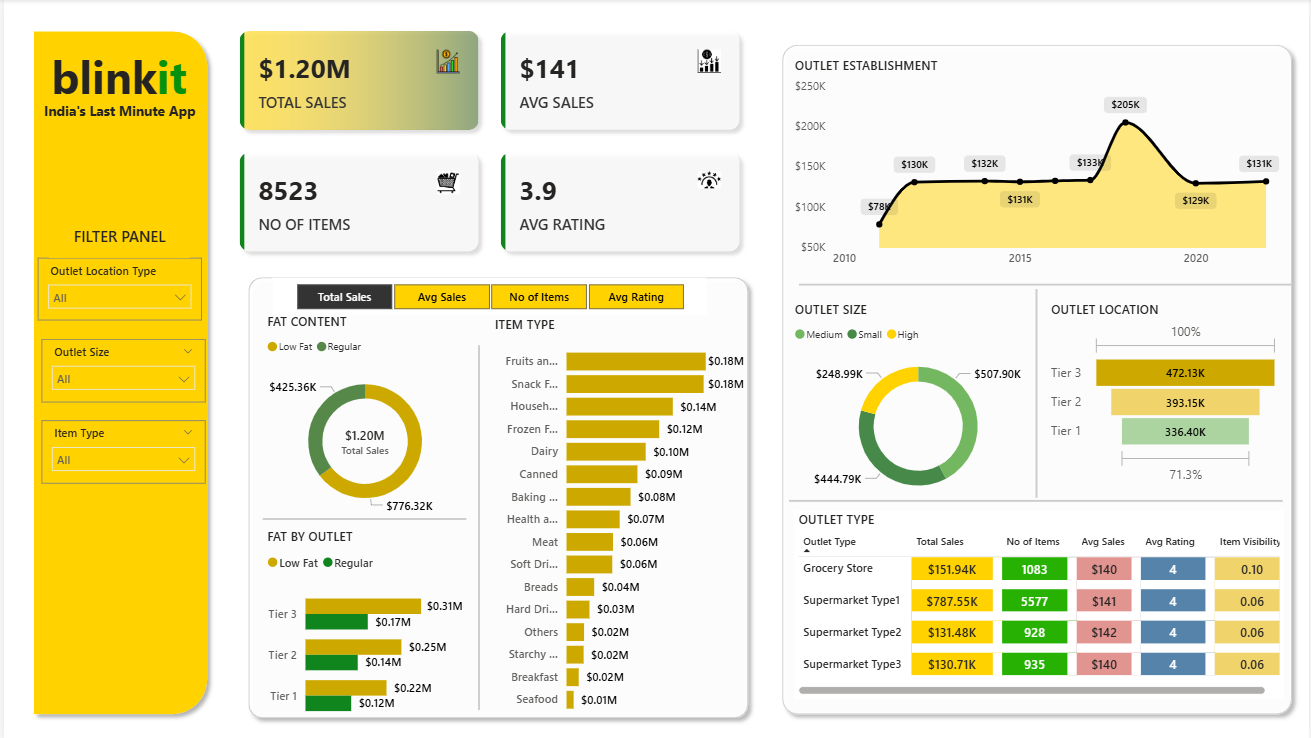

The page's visual inventory and layout, read from the dashboard file:
{"tool":"powerbi","page":{"name":"Page 1","canvas":[1400,800],"ordinal":0},"visuals":[{"type":"shape","box":[22.5,25.5,204.1,750.4],"z":0},{"type":"textbox","box":[40.5,45,166.6,84],"z":1000},{"type":"textbox","box":[30,105.1,189.1,48],"z":2000},{"type":"cardVisual","fields":{"Data":["BlinkIT Grocery Data.Total Sales","BlinkIT Grocery Data.Avg Sales","BlinkIT Grocery Data.No of Items","BlinkIT Grocery Data.Avg Rating"]},"box":[235.9,17.4,571,270.8],"z":3000},{"type":"shape","box":[253.4,289.5,553.6,490.6],"z":4000},{"type":"donutChart","title":"FAT CONTENT","fields":{"Y":["BlinkIT Grocery Data.Total Sales"],"Category":["BlinkIT Grocery Data.Item Fat Content"]},"box":[277.5,336.5,219.8,230.6],"z":5000},{"type":"slicer","fields":{"Values":["Metrics.Metrics"]},"box":[288.2,298.9,465.1,40.2],"z":6000},{"type":"cardVisual","fields":{"Data":["BlinkIT Grocery Data.Total Sales"]},"box":[339.1,439.7,96.5,69.7],"z":6001},{"type":"clusteredBarChart","title":"FAT BY OUTLET","fields":{"Y":["BlinkIT Grocery Data.Total Sales"],"Category":["BlinkIT Grocery Data.Outlet Location Type"],"Series":["BlinkIT Grocery Data.Item Fat Content"]},"box":[277.5,567,219.8,221.2],"z":6002},{"type":"shape","box":[277.5,548.3,218.5,18.8],"z":6003},{"type":"shape","box":[497.3,371.3,24.1,391.4],"z":6004},{"type":"barChart","title":"ITEM TYPE","fields":{"Category":["BlinkIT Grocery Data.Item Type"],"Y":["BlinkIT Grocery Data.Total Sales"]},"box":[521.5,339.1,277.5,437],"z":6005},{"type":"shape","box":[825.7,40.2,564.3,735.9],"z":6006},{"type":"lineChart","title":"OUTLET ESTABLISHMENT","fields":{"Y":["BlinkIT Grocery Data.Total Sales"],"Category":["BlinkIT Grocery Data.Outlet Establishment Year"]},"box":[843.2,61.7,529.5,234.6],"z":6007},{"type":"shape","box":[841.8,528.2,529.5,20.1],"z":6008},{"type":"donutChart","title":"OUTLET SIZE","fields":{"Y":["BlinkIT Grocery Data.Total Sales"],"Category":["BlinkIT Grocery Data.Outlet Size"]},"box":[843.2,323.1,274.8,225.2],"z":6009},{"type":"shape","box":[1096.5,311,21.4,223.9],"z":6010},{"type":"funnel","title":"OUTLET LOCATION","fields":{"Y":["Sum(BlinkIT Grocery Data.Sales)"],"Category":["BlinkIT Grocery Data.Outlet Location Type"]},"box":[1118,323.1,254.7,201.1],"z":6011},{"type":"shape","box":[852.6,296.2,529.5,20.1],"z":6012},{"type":"pivotTable","title":"OUTLET TYPE","fields":{"Rows":["BlinkIT Grocery Data.Outlet Type"],"Values":["BlinkIT Grocery Data.Total Sales","BlinkIT Grocery Data.No of Items","BlinkIT Grocery Data.Avg Sales","BlinkIT Grocery Data.Avg Rating","Avg(BlinkIT Grocery Data.Item Visibility)"]},"box":[847.2,548.3,525.5,202.4],"z":6013},{"type":"slicer","fields":{"Values":["BlinkIT Grocery Data.Outlet Location Type"]},"box":[36.2,277.5,175.6,67],"z":6014},{"type":"slicer","fields":{"Values":["BlinkIT Grocery Data.Outlet Size"]},"box":[40.2,364.6,175.6,68.4],"z":6015},{"type":"slicer","fields":{"Values":["BlinkIT Grocery Data.Item Type"]},"box":[40.2,451.7,175.6,68.4],"z":6016},{"type":"textbox","box":[48.3,238.6,151.5,38.9],"z":6017}]}

Visuals, with their boxes in screenshot pixels (x1, y1, x2, y2), scaled from the page's 1400x800 canvas onto the 1311x738 screenshot:
shape: (left=21, top=24, right=212, bottom=716)
textbox: (left=38, top=42, right=194, bottom=119)
textbox: (left=28, top=97, right=205, bottom=141)
cardVisual - BlinkIT Grocery Data.Total Sales x BlinkIT Grocery Data.Avg Sales: (left=221, top=16, right=756, bottom=266)
shape: (left=237, top=267, right=756, bottom=720)
"FAT CONTENT" donutChart: (left=260, top=310, right=466, bottom=523)
slicer - Metrics.Metrics: (left=270, top=276, right=705, bottom=313)
cardVisual - BlinkIT Grocery Data.Total Sales: (left=318, top=406, right=408, bottom=470)
"FAT BY OUTLET" clusteredBarChart: (left=260, top=523, right=466, bottom=727)
shape: (left=260, top=506, right=464, bottom=523)
shape: (left=466, top=343, right=488, bottom=704)
"ITEM TYPE" barChart: (left=488, top=313, right=748, bottom=716)
shape: (left=773, top=37, right=1302, bottom=716)
"OUTLET ESTABLISHMENT" lineChart: (left=790, top=57, right=1285, bottom=273)
shape: (left=788, top=487, right=1284, bottom=506)
"OUTLET SIZE" donutChart: (left=790, top=298, right=1047, bottom=506)
shape: (left=1027, top=287, right=1047, bottom=493)
"OUTLET LOCATION" funnel: (left=1047, top=298, right=1285, bottom=484)
shape: (left=798, top=273, right=1294, bottom=292)
"OUTLET TYPE" pivotTable: (left=793, top=506, right=1285, bottom=693)
slicer - BlinkIT Grocery Data.Outlet Location Type: (left=34, top=256, right=198, bottom=318)
slicer - BlinkIT Grocery Data.Outlet Size: (left=38, top=336, right=202, bottom=399)
slicer - BlinkIT Grocery Data.Item Type: (left=38, top=417, right=202, bottom=480)
textbox: (left=45, top=220, right=187, bottom=256)
